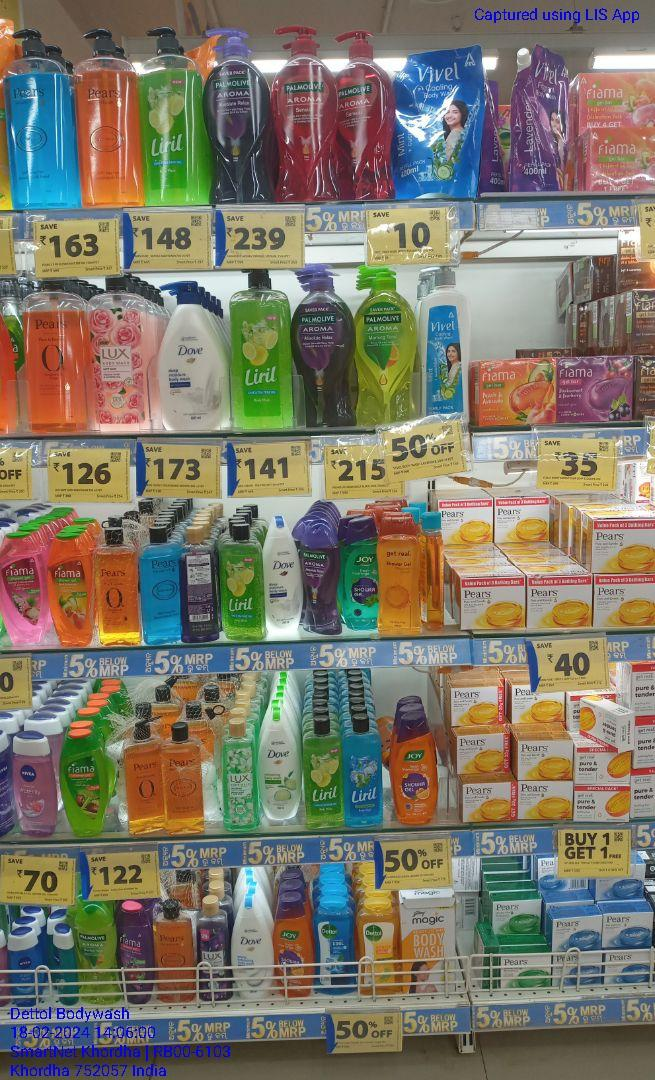Dettol_Bodywash_Cool: (317, 890, 355, 994)
Dettol_Bodywash_Refresh: (359, 895, 401, 994)
Dove_Deep_Moisture_Body_Wash_250ML: (262, 514, 301, 629)
Dove_Gentle_Exfoliating_Body_Wash_250ML: (232, 898, 274, 1005)
Dove_Refreshing_Body_Wash_250ML: (262, 703, 299, 822)
Fiama_Shower_Gel_Lemongrass_and_Jojoba_250ML: (63, 726, 108, 838)
Fiama_Shower_Gel_Patchouli_and_Macadamia_250ML: (0, 533, 43, 647)
Fiama_Shower_Gel_Peach_and_Avocado_250ML: (46, 532, 95, 645)
Get_Real_Shower_Gel_Moisturising_Glycerin_300ML: (381, 517, 421, 636)
Joy_Shower_Gel_Mandarin_and_Lemongrass_250ML: (390, 711, 436, 825), (277, 892, 314, 996)
Joy_Shower_Gel_Mint_and_Eucalyptus_250ML: (343, 516, 379, 630)
Liril_Cooling_Mint_Body_Wash_250ML: (346, 715, 382, 828)
Liril_Lime_and_Tea_Tree_Oil_Body_Wash_250ML: (304, 715, 343, 832)
Lux_Black_Orchid_Scent_and_Juniper_Oil_Body_Wash_245ML: (196, 897, 229, 1000)
Lux_Body_Wash_Skin_Detox_Freesia_Scent_and_Alove_Vera_245ML: (222, 719, 259, 832)
Nivea_Shower_Gel_Waterlily_and_Oil_250ML: (12, 729, 57, 839)
Palmolive_Aroma_Morning_Tonic_Shower_Gel_250ML: (76, 906, 121, 1006)
Palmolive_Aroma_Relax_250ML: (304, 520, 341, 635)
Pears_Pure_Glycerin_and_Mint_Extracts_Body_Wash_250ML: (139, 526, 183, 645)
